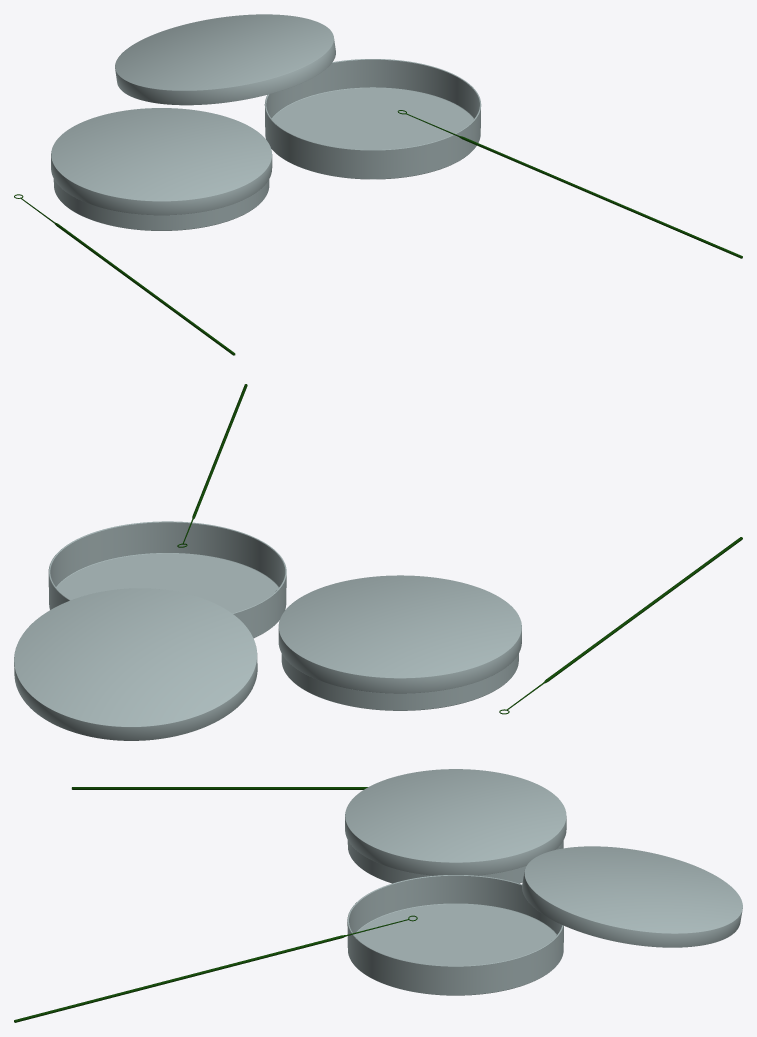
Rendered from loop petri.fbx.
3 renders of one model, top to bottom at view 1: azimuth 30°, elevation 25°; view 2: azimuth 150°, elevation 25°; view 3: azimuth 270°, elevation 25°, orthographic. The views are drawn at different scales.
Parts seen in each view (by area): view 1: Circle.002, Circle.001, Torus.001, Torus; view 2: Circle.002, Circle.001, Torus, Torus.001; view 3: Circle.002, Circle.001, Torus.001, Torus.
Boxes of the visible parts, <box> form: Circle.002: <box>115,14,481,179</box>; Circle.001: <box>51,108,272,230</box>; Torus.001: <box>397,110,742,258</box>; Torus: <box>14,194,235,355</box>; Circle.002: <box>14,521,286,740</box>; Circle.001: <box>278,575,521,710</box>; Torus: <box>499,537,742,714</box>; Torus.001: <box>177,384,247,547</box>; Circle.002: <box>347,846,742,995</box>; Circle.001: <box>345,769,566,883</box>; Torus.001: <box>14,915,417,1022</box>; Torus: <box>71,787,367,789</box>.
Size of the model in its own units: 36.99 by 3.6 by 48.15.
